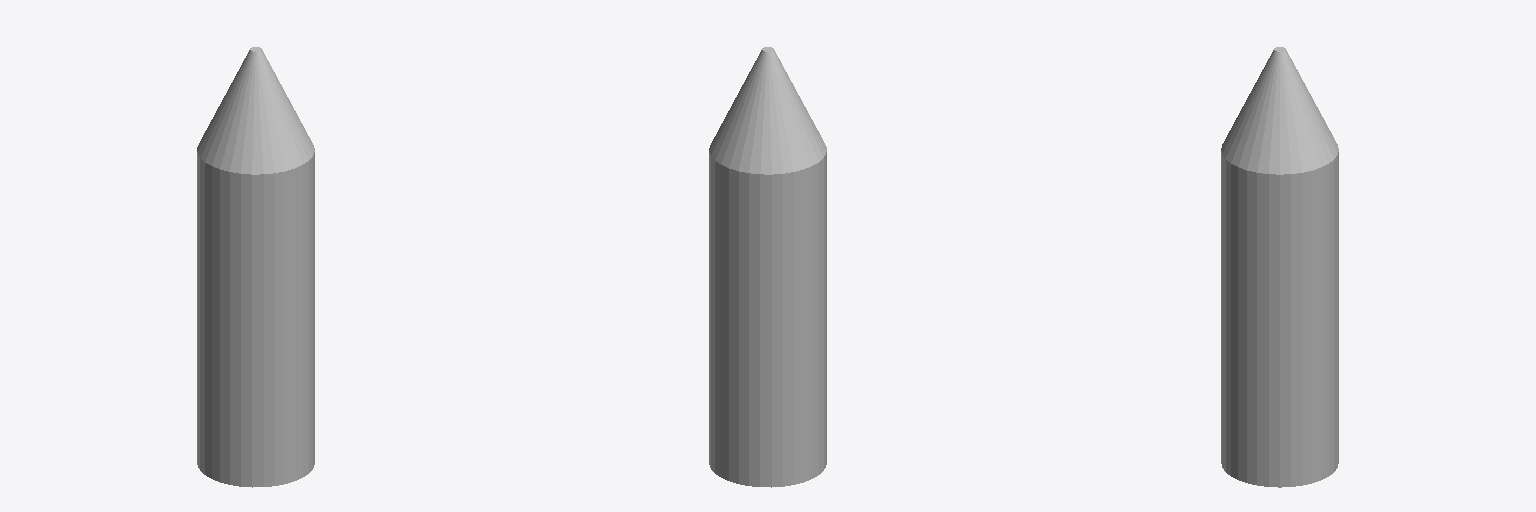
The model's file is objects_collider.obj.
3 renders of one model, left to right at view 1: azimuth 30°, elevation 25°; view 2: azimuth 150°, elevation 25°; view 3: azimuth 270°, elevation 25°, orthographic.
Visible parts, largest first — view 1: objects_collider_Cylinder.022; view 2: objects_collider_Cylinder.022; view 3: objects_collider_Cylinder.022.
Boxes of the visible parts, box(x1,y1,x2,y2) form: objects_collider_Cylinder.022: box(197, 47, 314, 487); objects_collider_Cylinder.022: box(709, 47, 826, 487); objects_collider_Cylinder.022: box(1221, 47, 1338, 487).
Bounding box in the file's own units: 1.68 × 6.51 × 1.68.